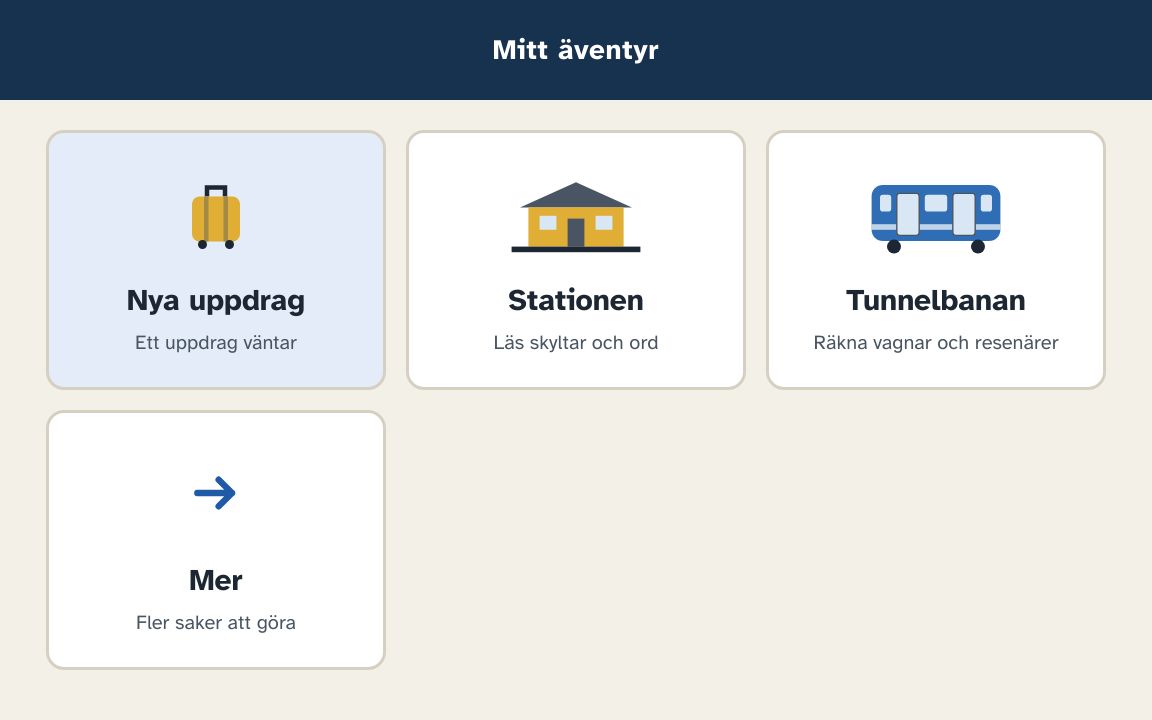
Test: early home › "Enklare skärmbild": fewer tiles, the rest behind "Mer"
Check: the link "Nya uppdrag Ett uppdrag väntar" is shown, box [46,130,386,390]
What coordinates should you click on to do the following:
click the button "Mer Fler saker att göra"
I would click on:
 (216, 493)
Its box is [46,410,386,670].
(page scrolled)
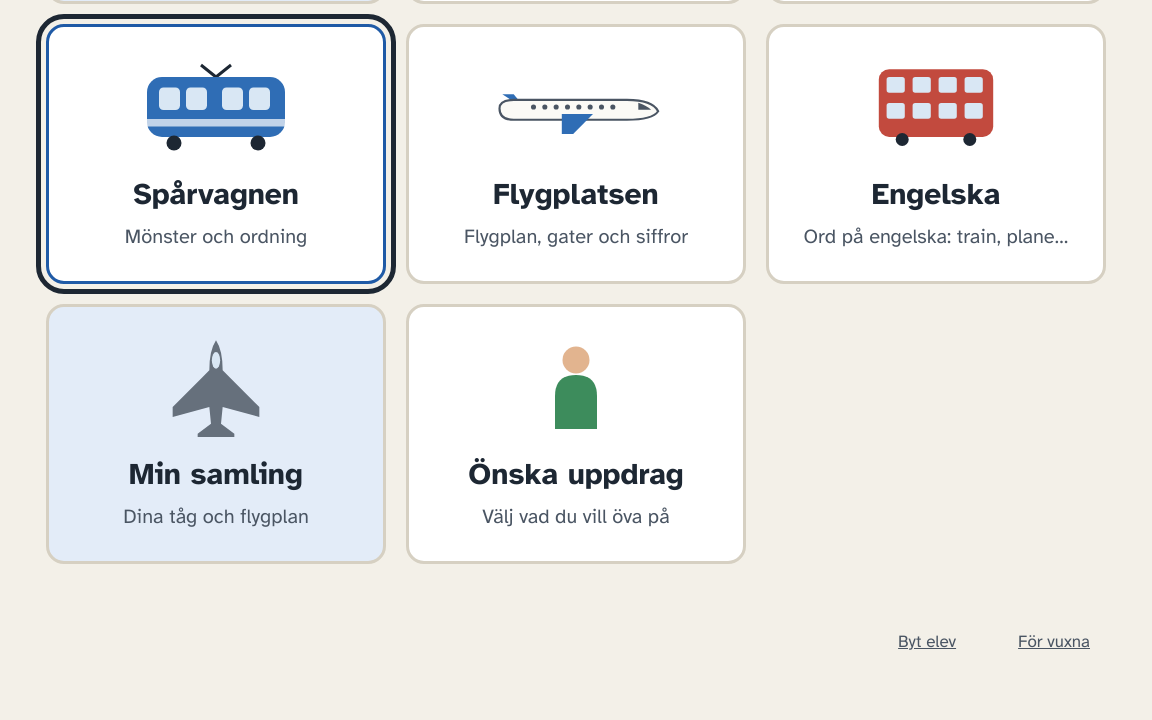
Check: the link "Min samling Dina tåg och flygplan" is shown, box [46,304,386,564]
Check: the button "Mer" is gone
